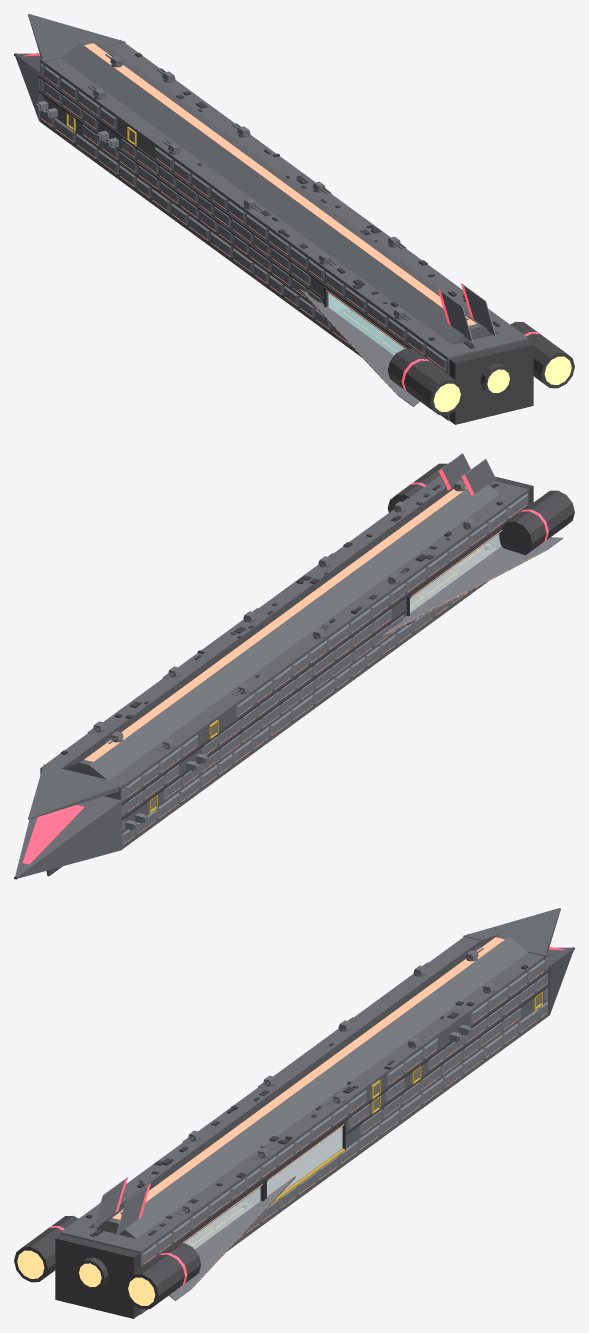
The model's file is ship_XL_v2.glb.
3 renders of one model, top to bottom at view 1: azimuth 30°, elevation 25°; view 2: azimuth 150°, elevation 25°; view 3: azimuth 330°, elevation 25°, orthographic.
Visible parts, largest first — view 1: XL_Hull-col, XL_Armor, XL_Engines, XL_Lights, XL_Trim, XL_EngineGlow, XL_HangarShield_Port, XL_Details, XL_Decks-col; view 2: XL_Hull-col, XL_Armor, XL_Lights, XL_Engines, XL_Trim, XL_Accent, XL_HangarShield_Port, XL_Decks-col, XL_Details; view 3: XL_Hull-col, XL_Armor, XL_Engines, XL_Lights, XL_Trim, XL_EngineGlow, XL_CargoBayShield, XL_CargoBayDoor-col, XL_Details, XL_HangarShield_Starboard, XL_Decks-col, XL_Hazard.
Part boxes in pixels (x1,y1,x2,y2): XL_Hull-col: (15, 14, 528, 420); XL_Armor: (40, 63, 495, 406); XL_Engines: (14, 53, 574, 424); XL_Lights: (41, 43, 476, 394); XL_Trim: (38, 75, 448, 374); XL_EngineGlow: (433, 356, 571, 411); XL_HangarShield_Port: (328, 293, 404, 354); XL_Details: (135, 53, 500, 348); XL_Decks-col: (335, 308, 404, 354); XL_Hull-col: (15, 476, 528, 878); XL_Armor: (121, 453, 563, 844); XL_Lights: (84, 487, 546, 843); XL_Engines: (14, 463, 574, 879); XL_Trim: (122, 505, 529, 820); XL_Accent: (22, 469, 548, 864); XL_HangarShield_Port: (410, 534, 501, 612); XL_Decks-col: (410, 545, 497, 612); XL_Details: (61, 483, 502, 754); XL_Hull-col: (60, 908, 573, 1314); XL_Armor: (93, 957, 548, 1300); XL_Engines: (14, 947, 574, 1318); XL_Lights: (112, 937, 547, 1288); XL_Trim: (140, 969, 550, 1268); XL_EngineGlow: (17, 1250, 155, 1305); XL_CargoBayShield: (267, 1127, 342, 1196); XL_CargoBayDoor-col: (267, 1127, 341, 1196); XL_Details: (86, 965, 527, 1236); XL_HangarShield_Starboard: (184, 1187, 260, 1248); XL_Decks-col: (184, 1202, 253, 1248); XL_Hazard: (191, 991, 542, 1246).
Bounding box in the file's own units: 42.61 × 29.45 × 240.
